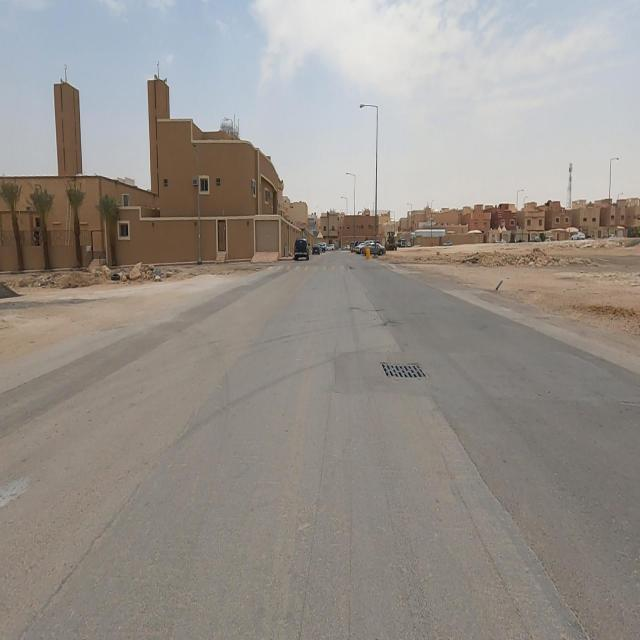debris: (142, 252, 174, 296)
